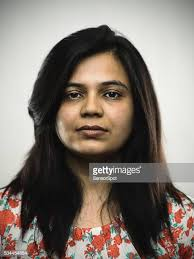indian_female: (21, 31, 154, 165)
